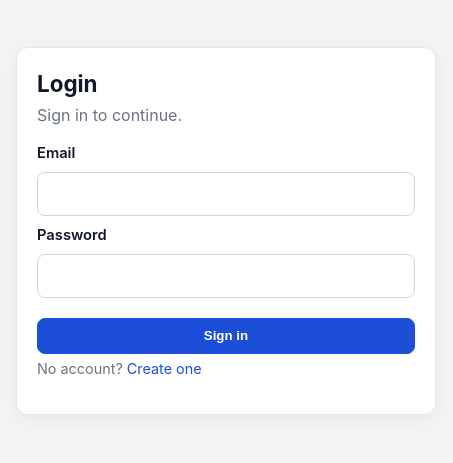
Scenario: LoginPage integration › shows field-level validation errors before submit
What coordinates should you click on to do the following:
click the button "Sign in"
I would click on:
 (226, 336)
Its box is [37, 318, 415, 354].
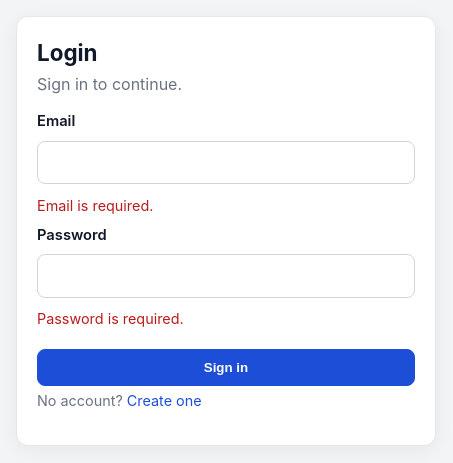
Expected: the text "Email is required." is shown, [37, 197, 153, 214]
Expected: the text "Password is required." is shown, [37, 310, 184, 327]
